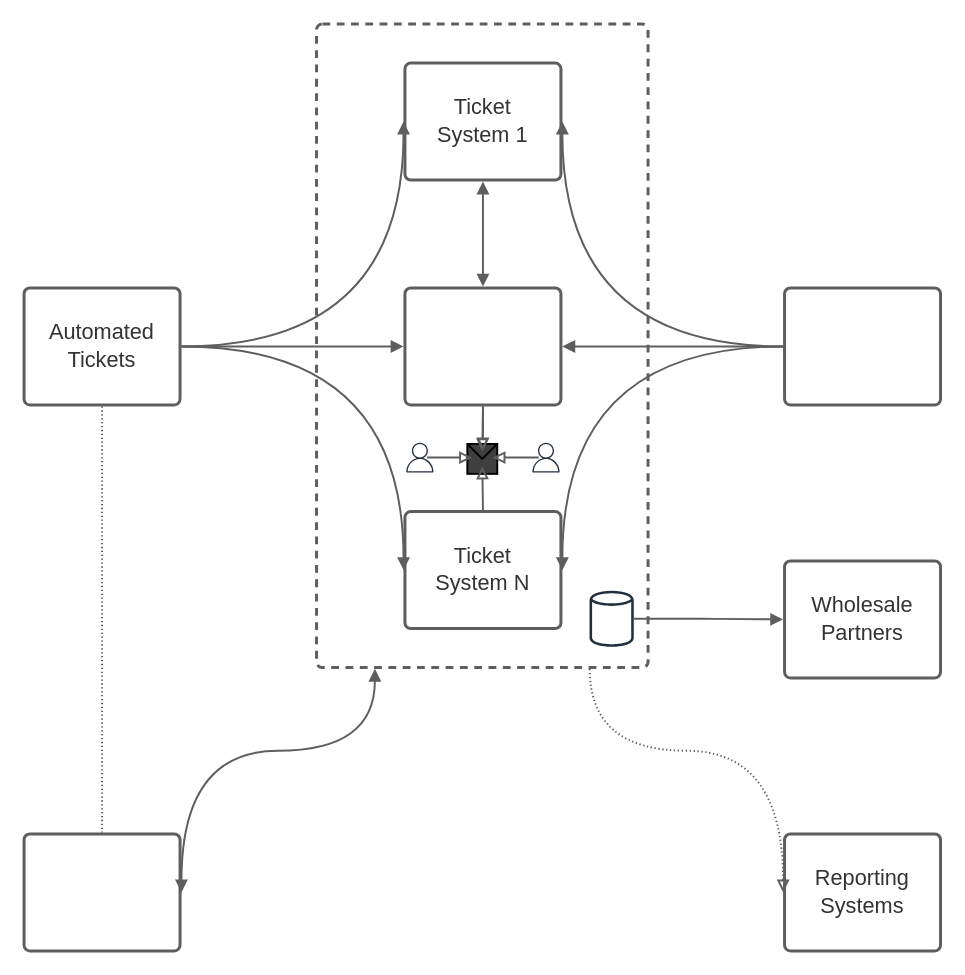
Some shapes in this 965 by 975 pixel diagram are drawn without their labels. Here are the shapes that lost their labels. From the top down, the centre of each, then its label:
the point at 482,346: Ticket System 2
the point at 861,346: Manual Tickets
the point at 101,892: External Systems
